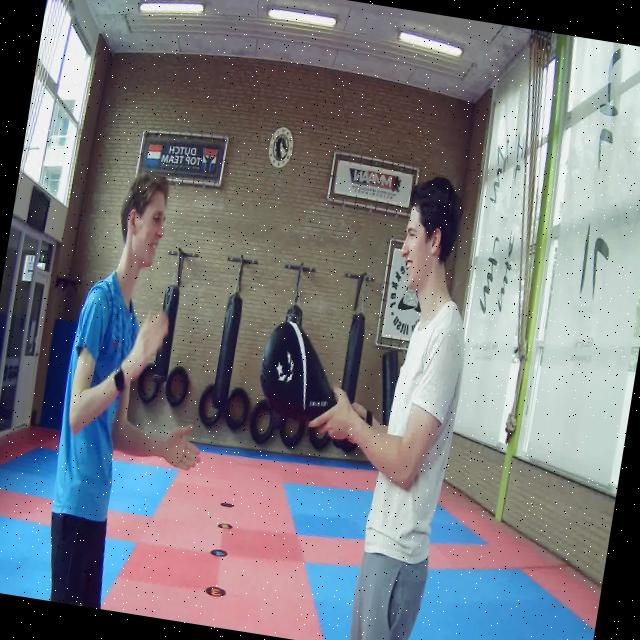paddle: (258, 321, 340, 423)
